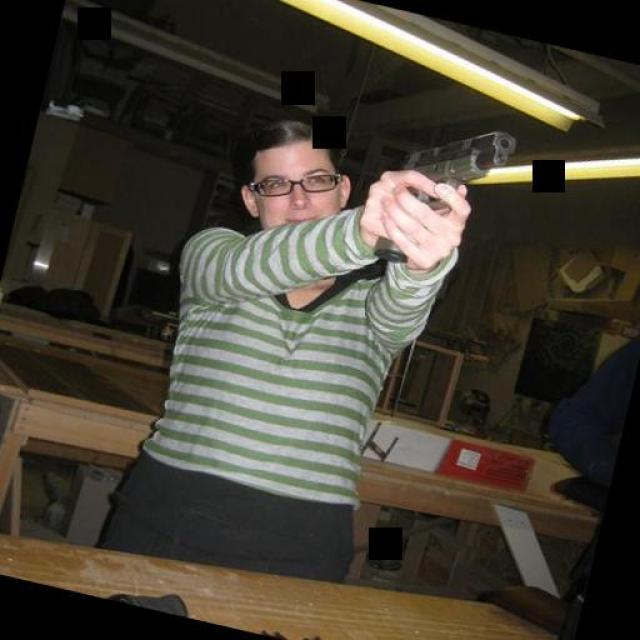gun: (372, 106, 518, 282)
